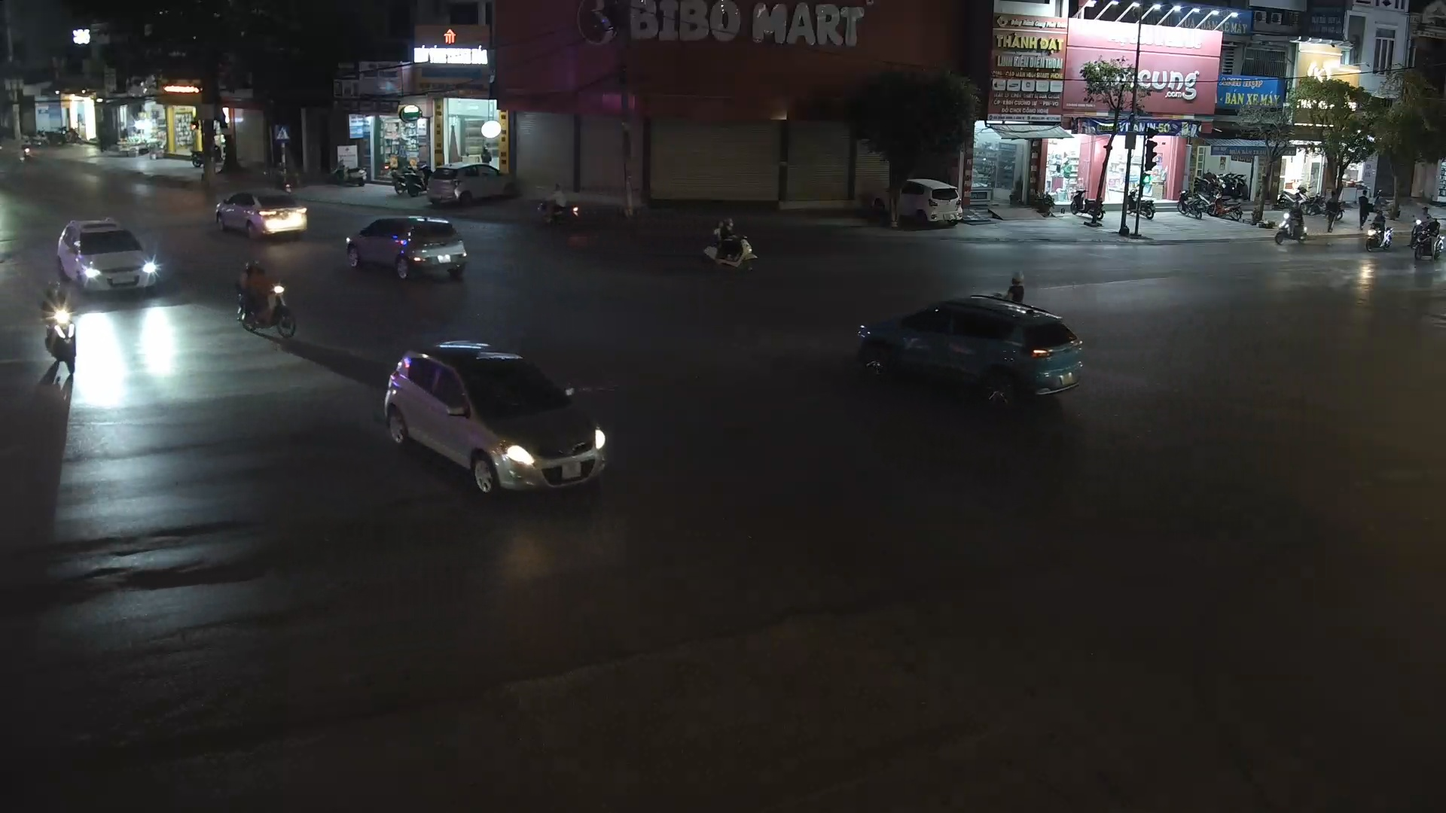car: (382, 339, 611, 495), (853, 294, 1084, 413), (53, 215, 162, 300), (342, 214, 471, 281), (213, 186, 310, 238)
motorbike: (234, 256, 301, 346), (38, 281, 84, 397), (701, 217, 760, 272)
